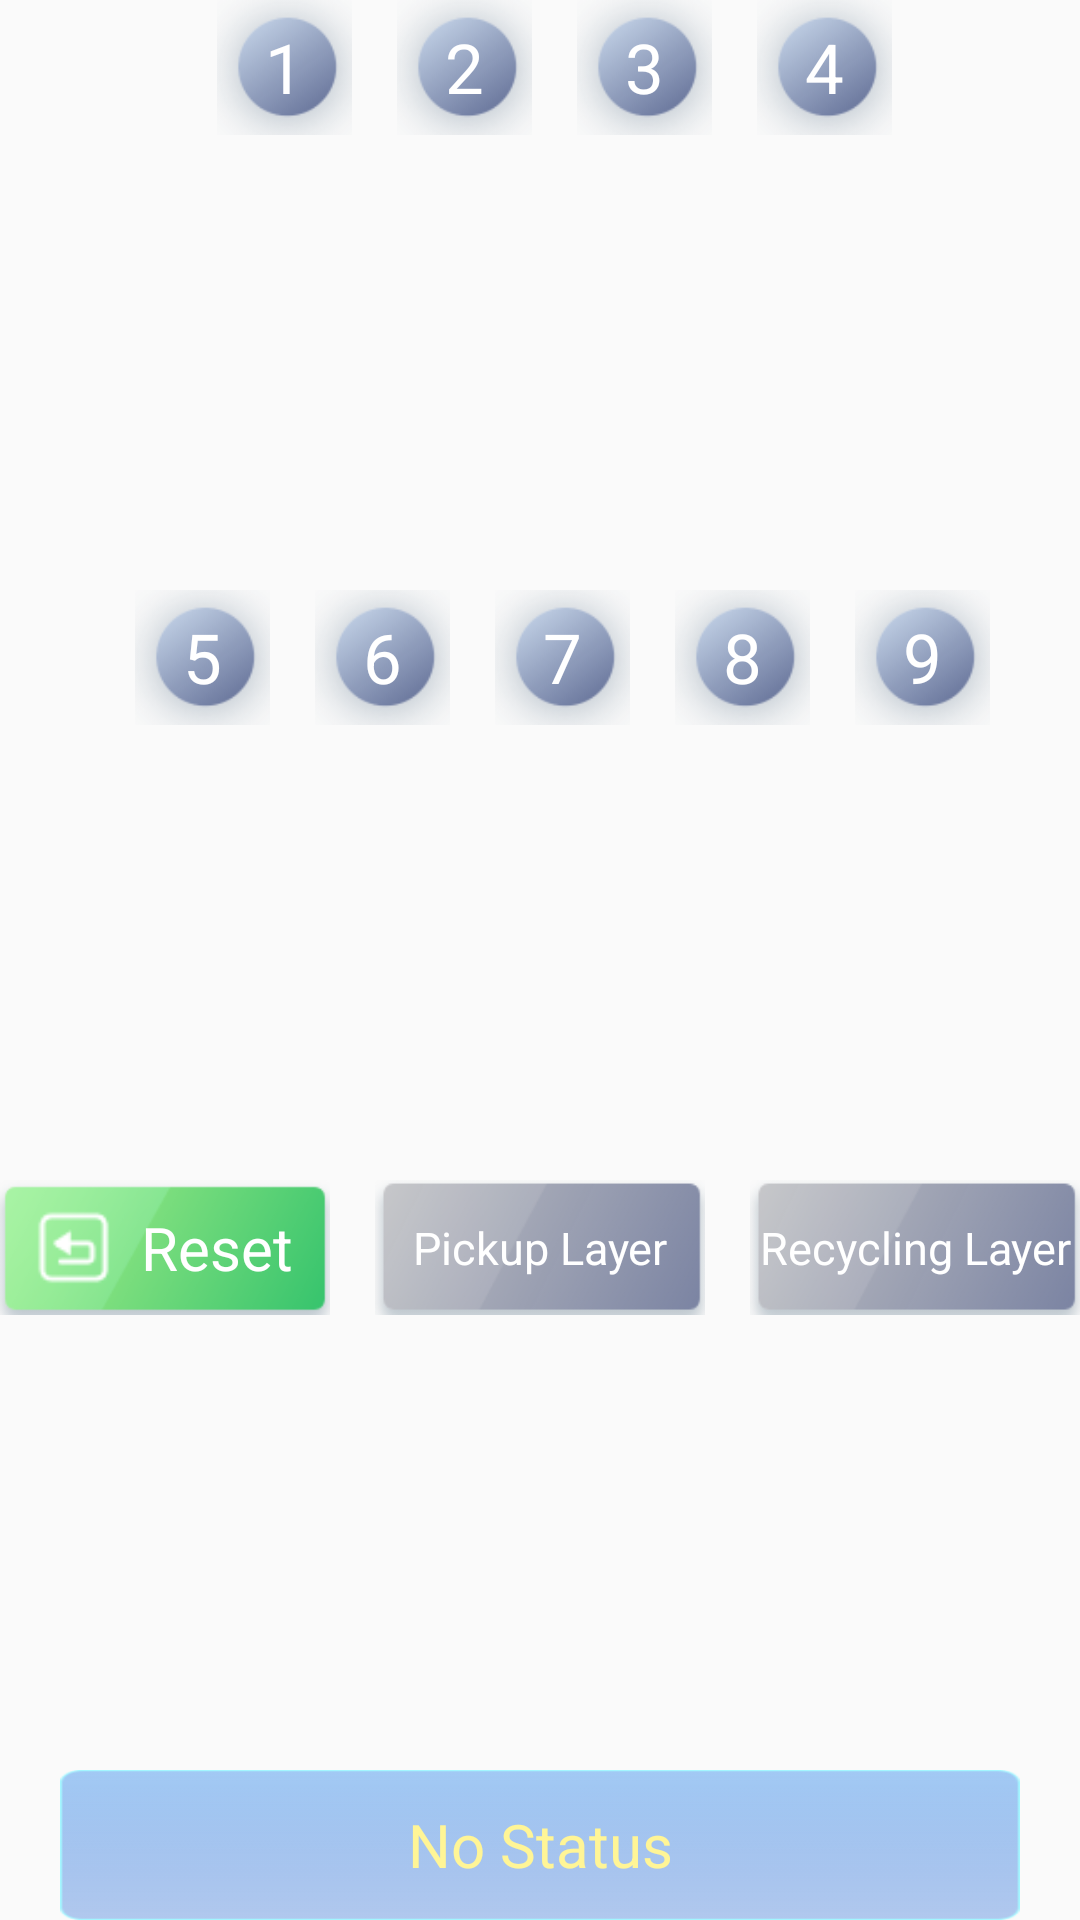

Named icons in this screenshot (1080 × 1920) and their bounding boxes, (x1, y1, x2, y2):
reposition: (38, 1212, 109, 1282)
